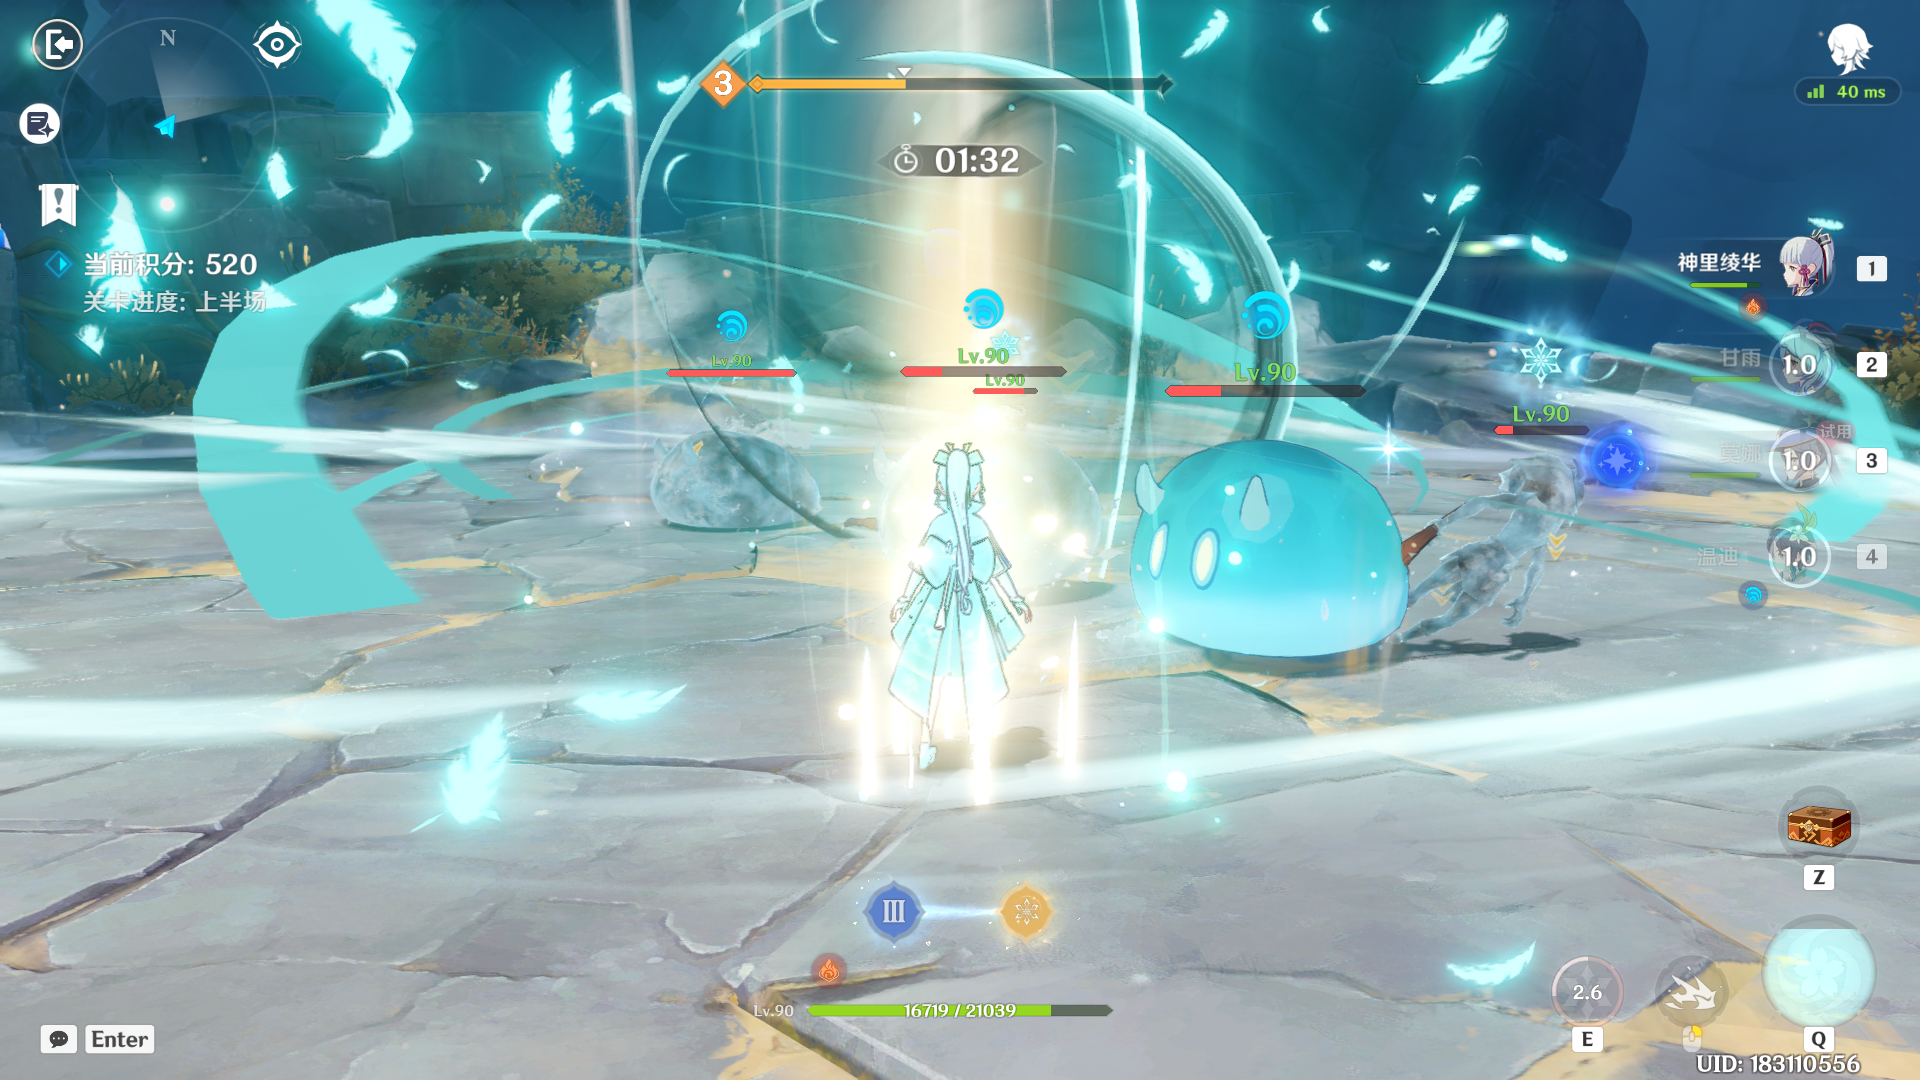character: (868, 423, 1068, 806)
slime: (1112, 402, 1458, 713), (632, 388, 847, 578)
